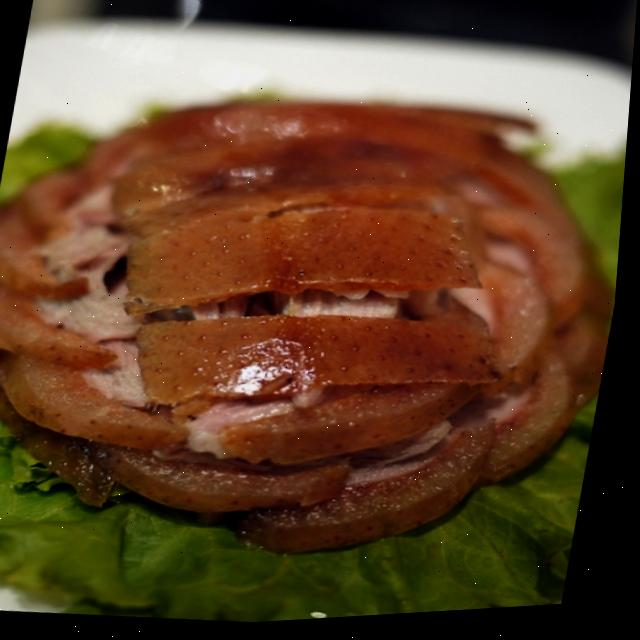烧串烤肉: (0, 2, 638, 631)
